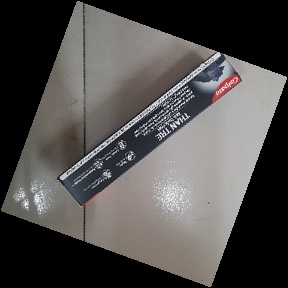Colgate Than: (54, 51, 243, 209)
